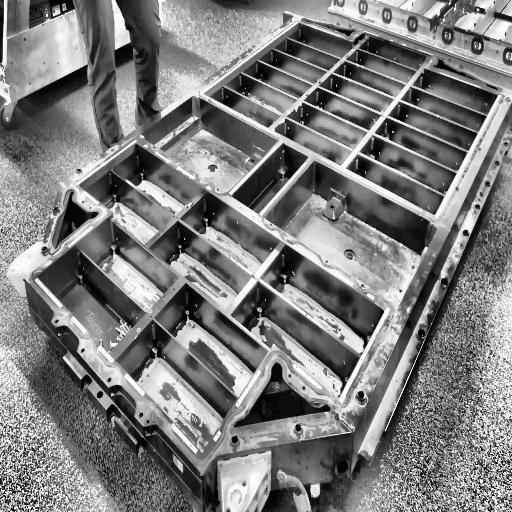b_casing: (24, 15, 512, 476)
